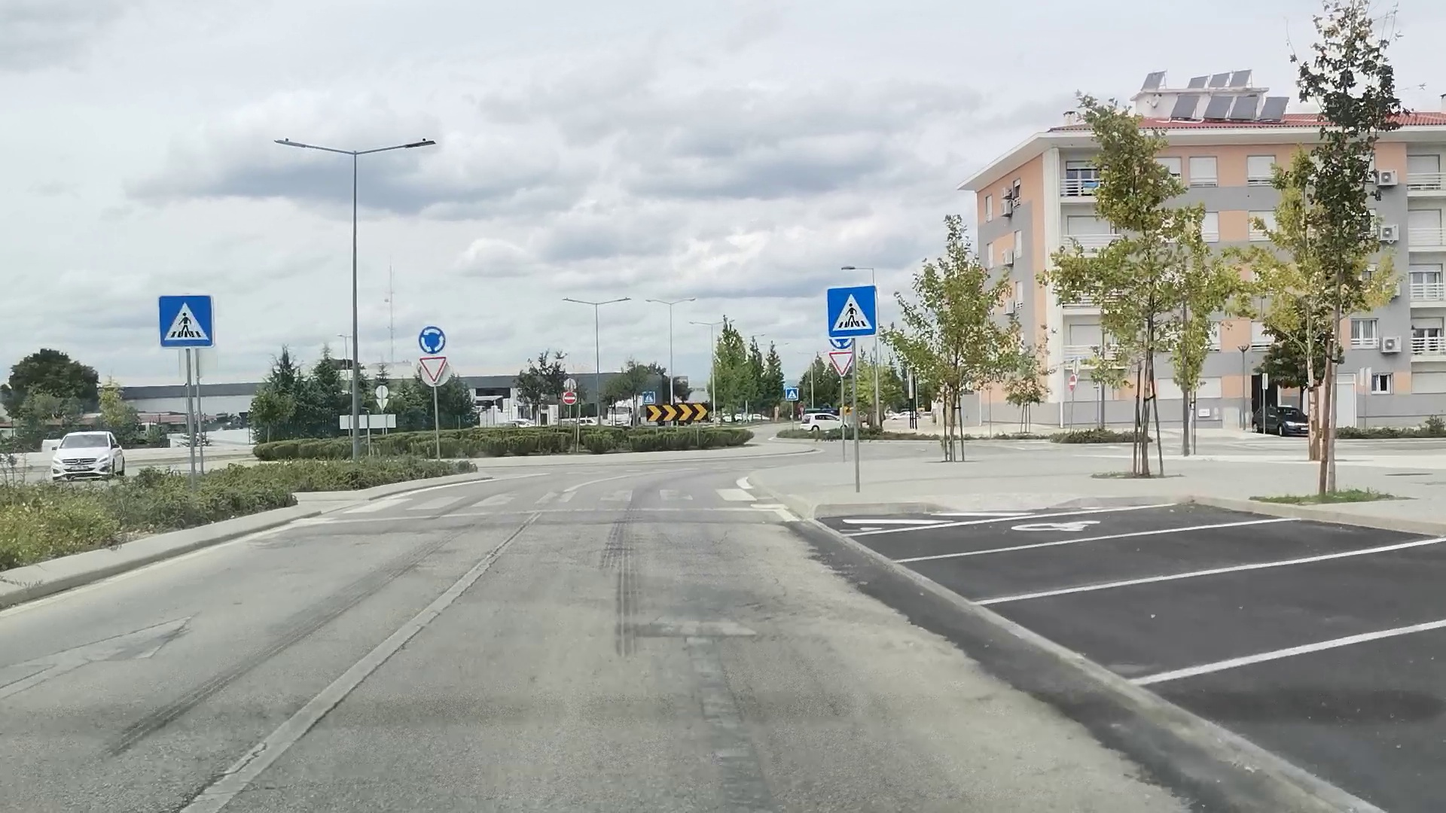Stairs: (345, 487, 757, 516)
